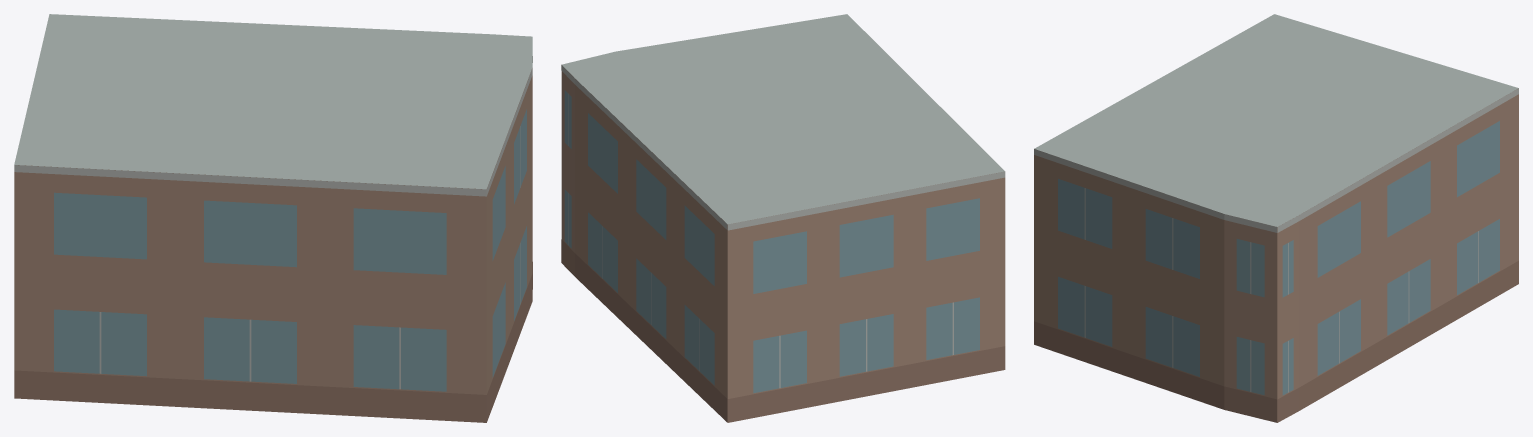
Rendered from survey-upis-32840051.glb.
The picture shows the model from 3 angles, left to right: view 1: azimuth 30°, elevation 25°; view 2: azimuth 150°, elevation 25°; view 3: azimuth 270°, elevation 25°; orthographic projection. The views are drawn at different scales.
Parts seen in each view (by area): view 1: survey-upis-32840051.tmp; view 2: survey-upis-32840051.tmp; view 3: survey-upis-32840051.tmp.
Part boxes in pixels (bbox=[...]): survey-upis-32840051.tmp: bbox=[14, 14, 532, 422]; survey-upis-32840051.tmp: bbox=[561, 14, 1005, 422]; survey-upis-32840051.tmp: bbox=[1034, 14, 1518, 422].
Size of the model in its own units: 18.43 by 7.9 by 17.73.
